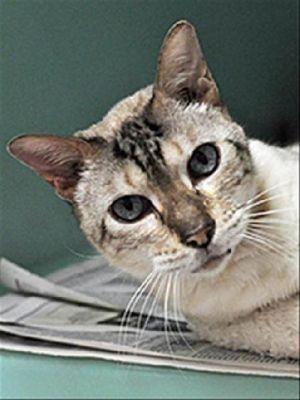bengal: (10, 1, 269, 301)
